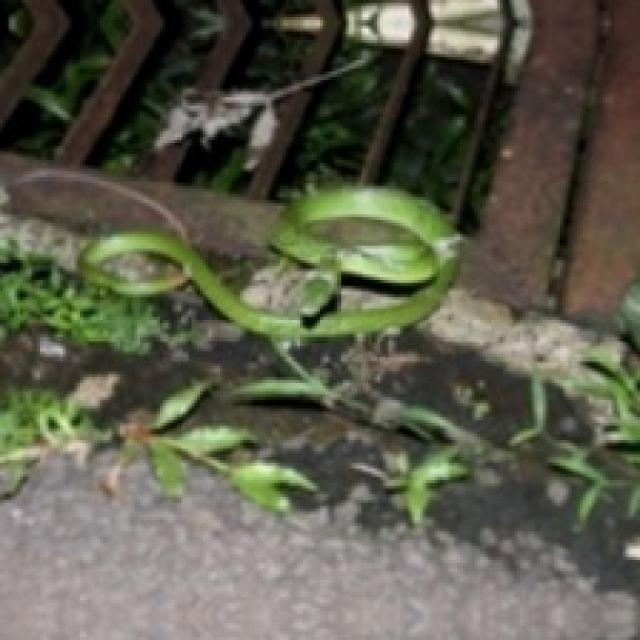red-tailed green ratsnake: (80, 186, 457, 337)
